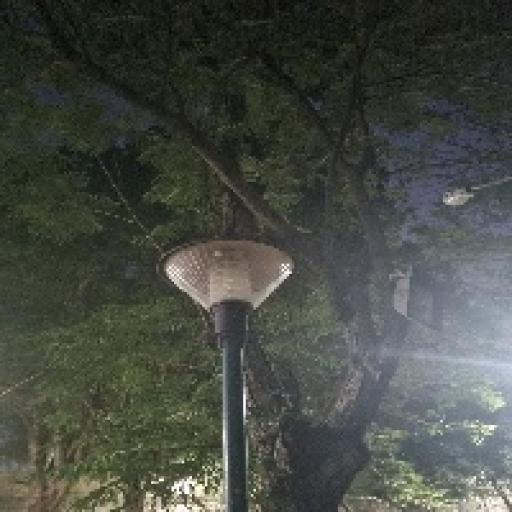Not Working: (141, 210, 306, 336), (378, 260, 460, 346), (427, 177, 487, 220)
